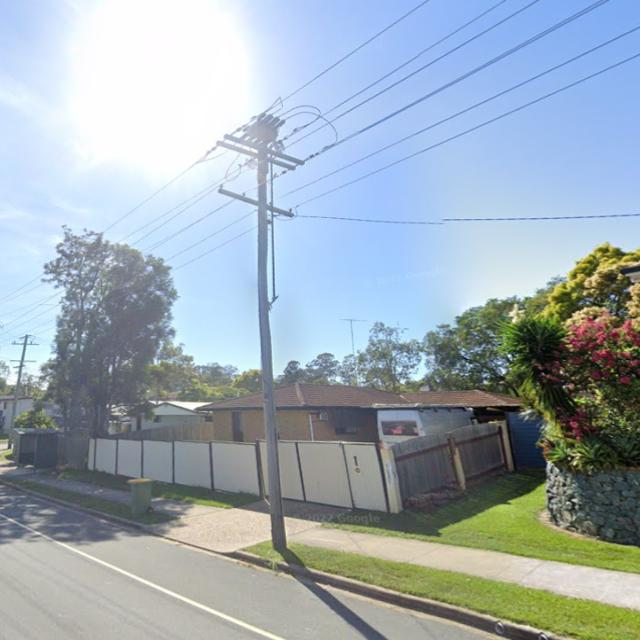HV-switch: (238, 112, 287, 145)
HV-transmission: (205, 126, 320, 180), (10, 341, 40, 345)
crossarm: (224, 134, 305, 165), (216, 141, 296, 171), (218, 189, 294, 218), (10, 360, 37, 363), (19, 334, 31, 339), (11, 343, 39, 345), (13, 365, 25, 368)
timber-pole: (256, 143, 288, 551), (7, 334, 28, 449)
